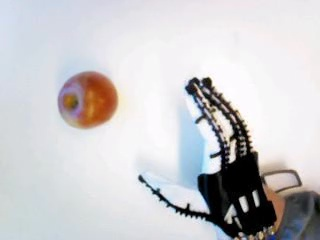apple: (55, 69, 117, 129)
hand: (135, 77, 276, 240)
